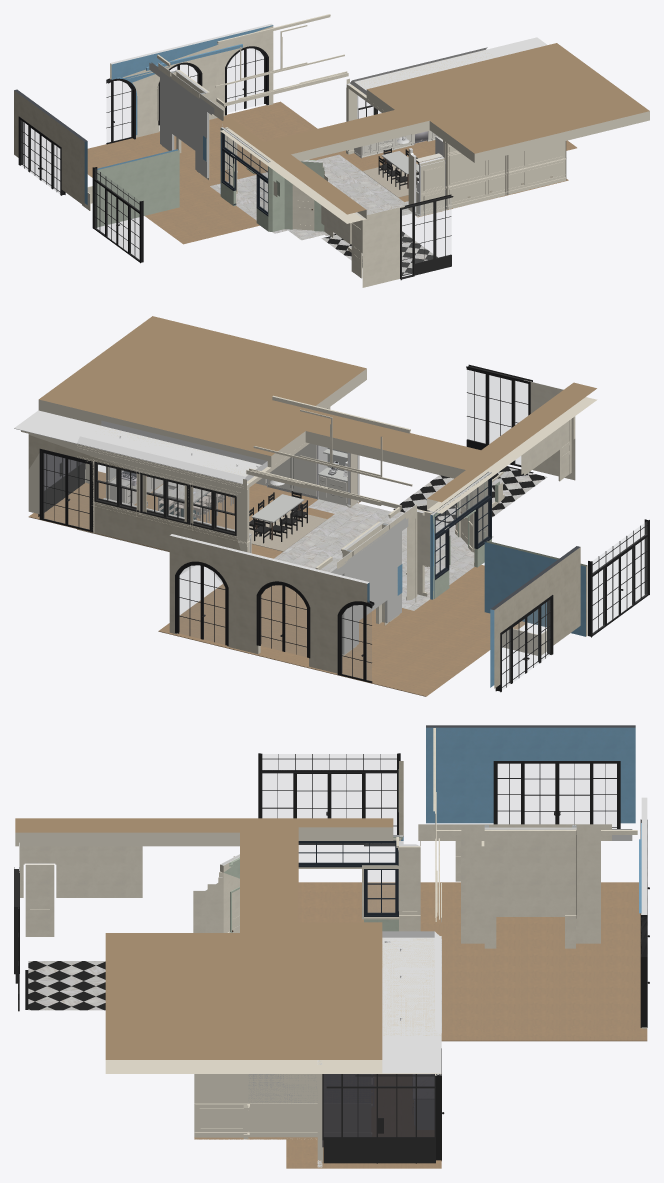
File: kitchen-cd4b5e75d003.glb
3 views of the same model, one above another, from view 1: azimuth 30°, elevation 25°; view 2: azimuth 150°, elevation 25°; view 3: azimuth 270°, elevation 25° (orthographic). The views are drawn at different scales.
Parts seen in each view (by area): view 1: kitchen-look-2575515a05775d9e, kitchen-look-3b0077416469e01b, kitchen-look-969b861f9850351e, kitchen-look-b19b106fc304963c, kitchen-19647d6da46c2b80, kitchen-look-698abdfdc6fb970d, kitchen-look-ba376bd68a22f7f3, kitchen-look-55ff1dfd7b659ec1, kitchen-look-039192b0560cfac3, kitchen-look-08d72923bcfd3529, kitchen-look-d5a4a1b5d3594c04, kitchen-look-b57b1dfcc6ff1bca (+25 smaller); view 2: kitchen-look-2575515a05775d9e, kitchen-look-3b0077416469e01b, kitchen-look-969b861f9850351e, kitchen-bfb9fa537cd11d1d, kitchen-look-ba376bd68a22f7f3, kitchen-look-039192b0560cfac3, kitchen-look-08d72923bcfd3529, kitchen-look-698abdfdc6fb970d, kitchen-look-55ff1dfd7b659ec1, kitchen-look-b57b1dfcc6ff1bca, kitchen-look-b19b106fc304963c, kitchen-look-316290d012168088 (+32 smaller); view 3: kitchen-look-2575515a05775d9e, kitchen-look-3b0077416469e01b, kitchen-look-039192b0560cfac3, kitchen-look-08d72923bcfd3529, kitchen-look-ed40dd465e6d599f, kitchen-look-9fbf623a647a21dd, kitchen-look-9d80b152e3f2ea10, kitchen-look-cbd4bf73d9724a66, kitchen-look-85f0fd939e0fcc78, kitchen-9a0e9ee9b2a451d7, kitchen-look-c4ac463b6a960119, kitchen-5b6bbac285e58726 (+17 smaller).
Part boxes in pixels (x1,y1,x2,y2): kitchen-look-2575515a05775d9e: (220, 43, 649, 223); kitchen-look-3b0077416469e01b: (87, 101, 576, 244); kitchen-look-969b861f9850351e: (110, 23, 273, 137); kitchen-look-b19b106fc304963c: (97, 149, 179, 227); kitchen-19647d6da46c2b80: (447, 141, 565, 205); kitchen-look-698abdfdc6fb970d: (400, 194, 453, 280); kitchen-look-ba376bd68a22f7f3: (210, 154, 411, 240); kitchen-look-55ff1dfd7b659ec1: (149, 62, 214, 178); kitchen-look-039192b0560cfac3: (14, 89, 87, 205); kitchen-look-08d72923bcfd3529: (92, 167, 143, 263); kitchen-look-d5a4a1b5d3594c04: (362, 206, 404, 287); kitchen-look-b57b1dfcc6ff1bca: (225, 46, 268, 115); kitchen-look-2575515a05775d9e: (38, 316, 597, 513); kitchen-look-3b0077416469e01b: (28, 471, 524, 696); kitchen-look-969b861f9850351e: (169, 534, 369, 673); kitchen-bfb9fa537cd11d1d: (77, 444, 249, 552); kitchen-look-ba376bd68a22f7f3: (280, 503, 493, 610); kitchen-look-039192b0560cfac3: (490, 546, 580, 688); kitchen-look-08d72923bcfd3529: (588, 519, 649, 637); kitchen-look-698abdfdc6fb970d: (466, 364, 532, 466); kitchen-look-55ff1dfd7b659ec1: (331, 517, 408, 654); kitchen-look-b57b1dfcc6ff1bca: (175, 561, 228, 645); kitchen-look-b19b106fc304963c: (484, 541, 587, 636); kitchen-look-316290d012168088: (256, 581, 310, 658); kitchen-look-2575515a05775d9e: (15, 818, 393, 1073); kitchen-look-3b0077416469e01b: (286, 882, 647, 1168); kitchen-look-039192b0560cfac3: (426, 725, 635, 823); kitchen-look-08d72923bcfd3529: (258, 753, 400, 846); kitchen-look-ed40dd465e6d599f: (484, 827, 576, 948); kitchen-look-9fbf623a647a21dd: (493, 761, 620, 828); kitchen-look-9d80b152e3f2ea10: (418, 824, 611, 943); kitchen-look-cbd4bf73d9724a66: (322, 1074, 434, 1147); kitchen-look-85f0fd939e0fcc78: (19, 846, 142, 897); kitchen-9a0e9ee9b2a451d7: (382, 937, 440, 1035); kitchen-look-c4ac463b6a960119: (28, 961, 105, 1010); kitchen-5b6bbac285e58726: (248, 1074, 317, 1139).
Bounding box in the file's own units: 20.89 × 6.34 × 16.86.
62 materials, 12 textured.
